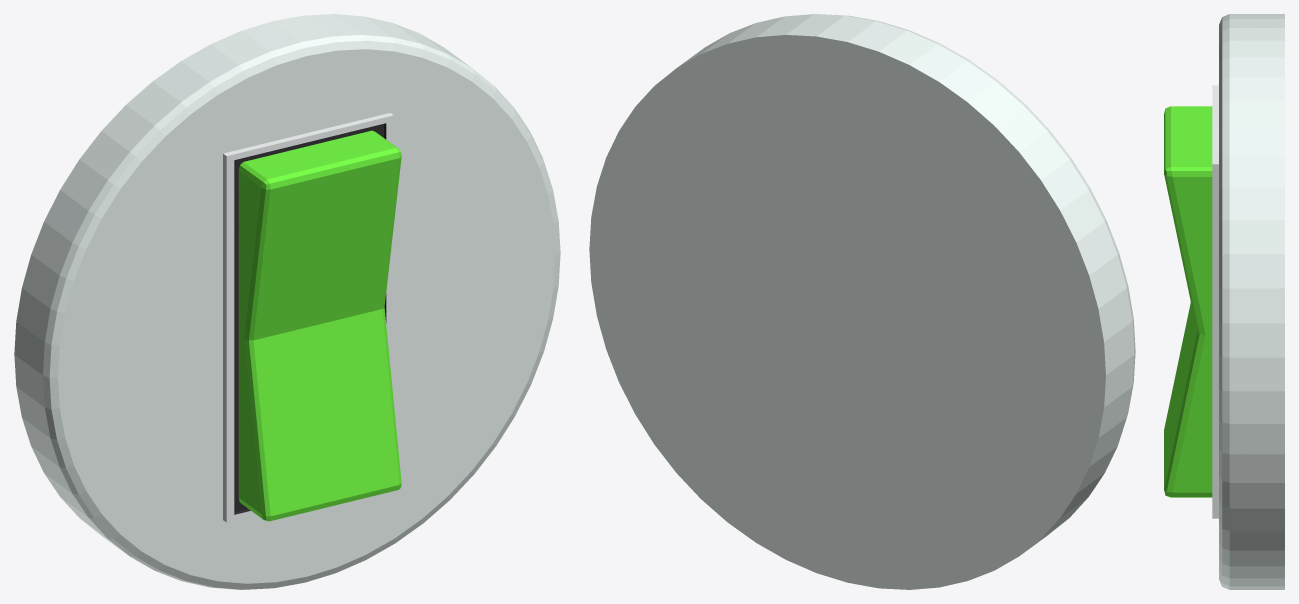
The model's file is lambatusu.fbx.
The picture shows the model from 3 angles, left to right: view 1: azimuth 30°, elevation 25°; view 2: azimuth 150°, elevation 25°; view 3: azimuth 270°, elevation 25°; orthographic projection. The views are drawn at different scales.
Parts seen in each view (by area): view 1: Cylinder.039, Cube.103; view 2: Cylinder.039; view 3: Cylinder.039, Cube.103.
Boxes of the visible parts, x1,y1,x2,y2 form: Cylinder.039: (14, 14, 560, 589); Cube.103: (238, 130, 401, 521); Cylinder.039: (589, 14, 1135, 589); Cylinder.039: (1212, 14, 1284, 589); Cube.103: (1164, 106, 1212, 497).
Bounding box in the file's own units: 401 × 84.03 × 401.
